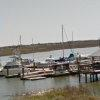Boat: (5, 50, 80, 86)
